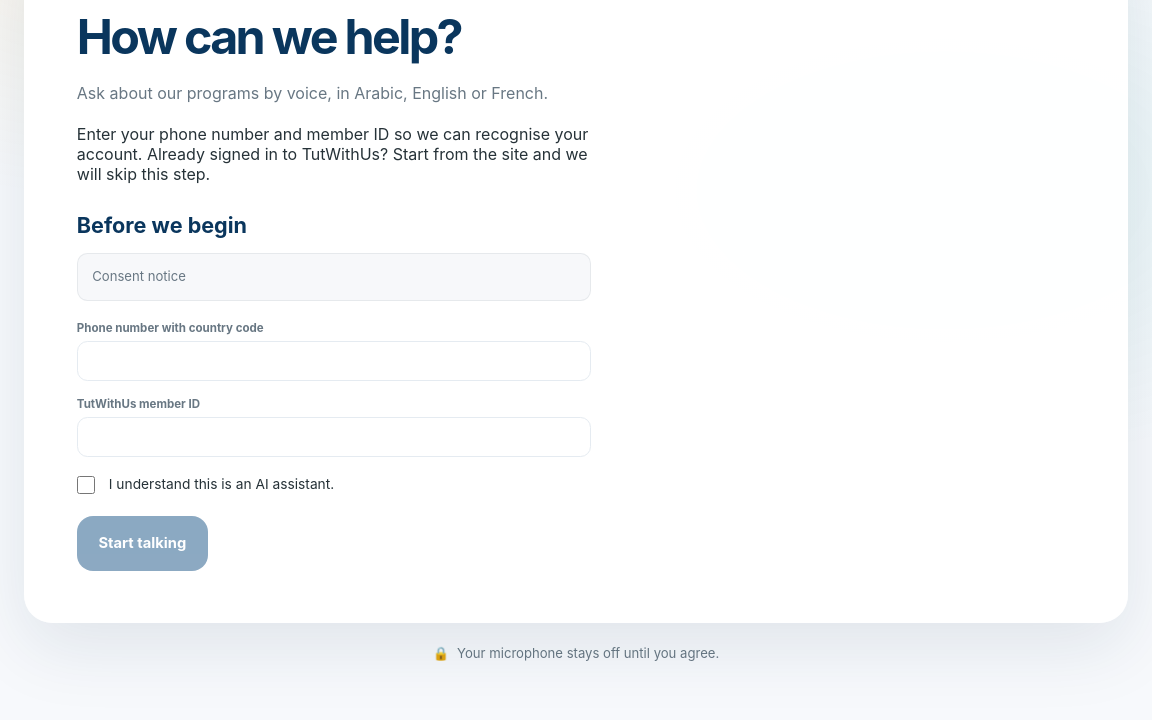
Scenario: voice page call flow › does not request the microphone before consent and the explicit Start action
(page scrolled)
expect the text "Consent notice" is shown: met, box [92,268,186,284]
Click the checkbox labelled "I understand this is an AI assistant.".
click(86, 485)  # box [77,476,95,494]
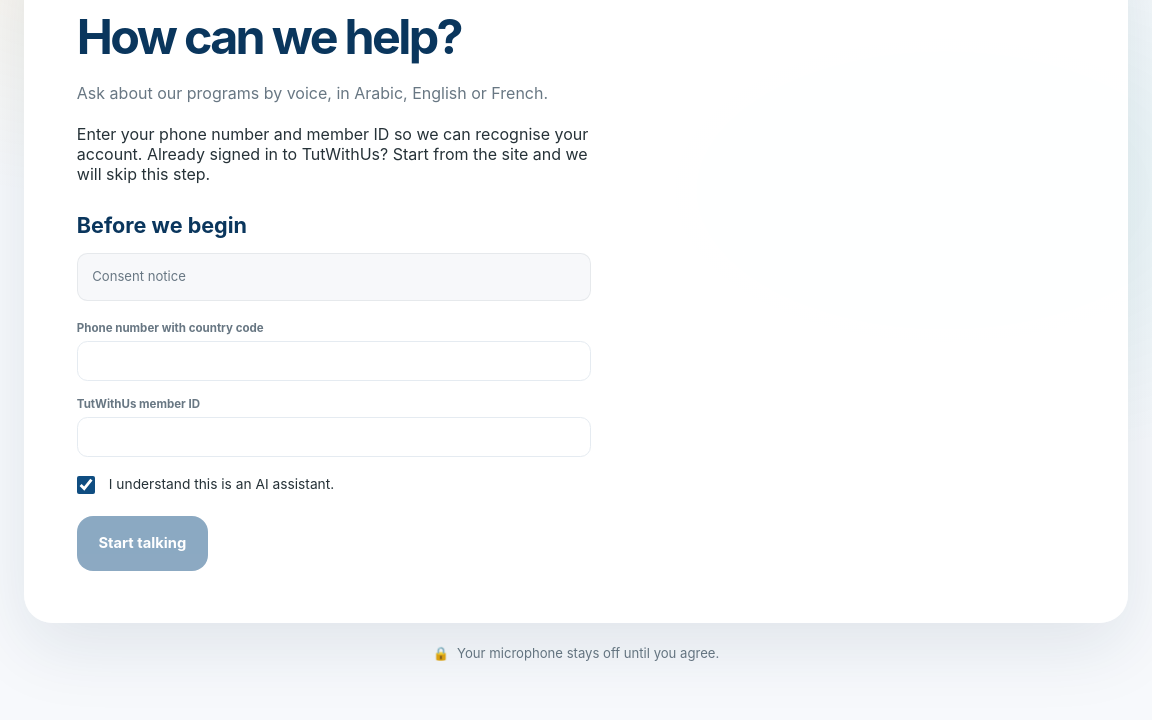
Type "+966501234567" into the field labelled "Phone number with country code".
click(334, 361); type("+966501234567")  # box [77,341,591,381]
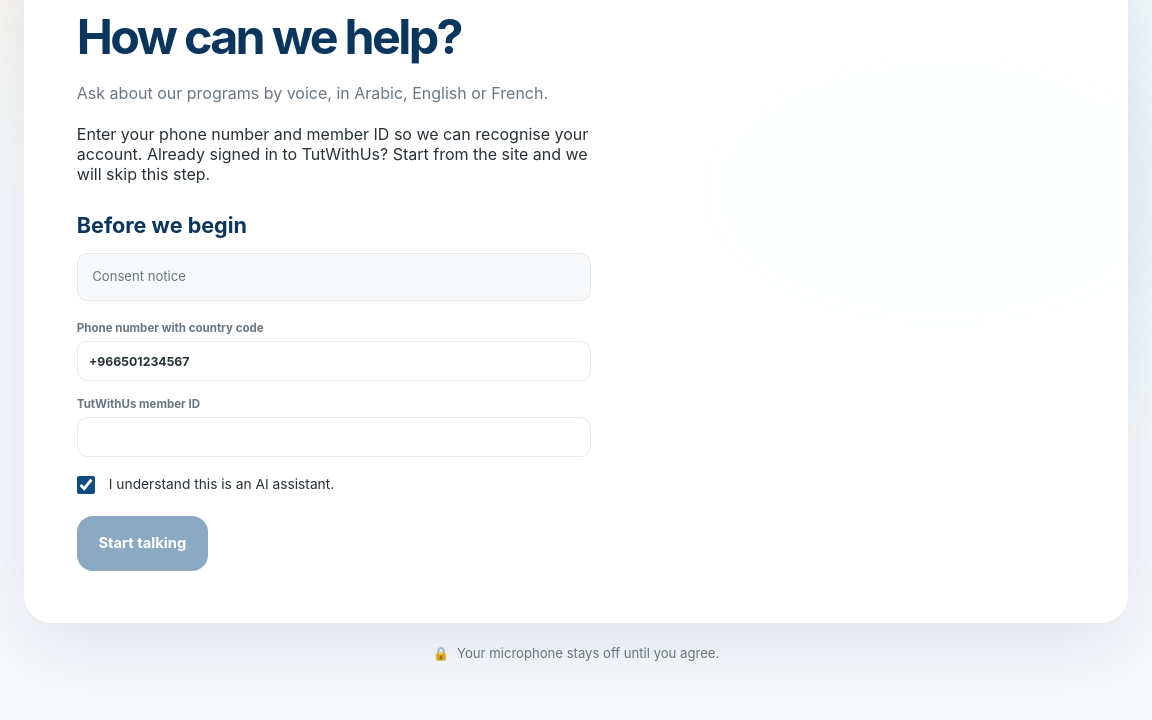
Type "2610037" into the field labelled "TutWithUs member ID".
click(334, 438); type("2610037")  # box [77,418,591,458]
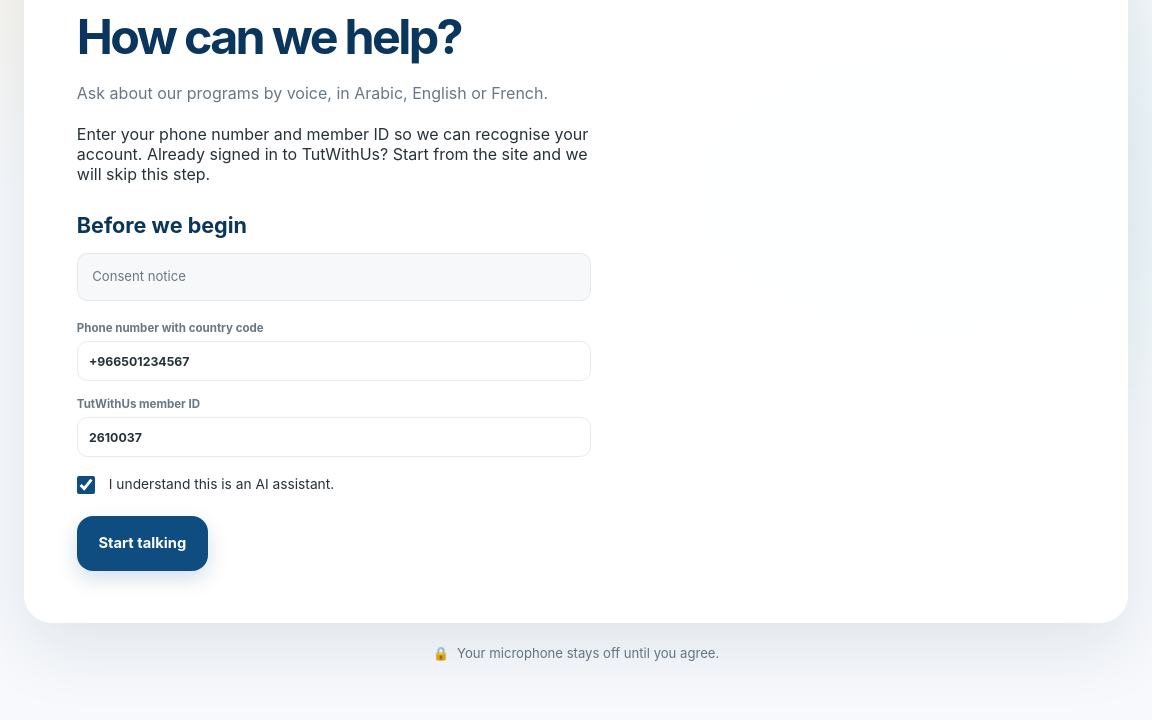
Click the button "Start talking".
click(142, 543)  # box [77,516,208,571]
(page scrolled)
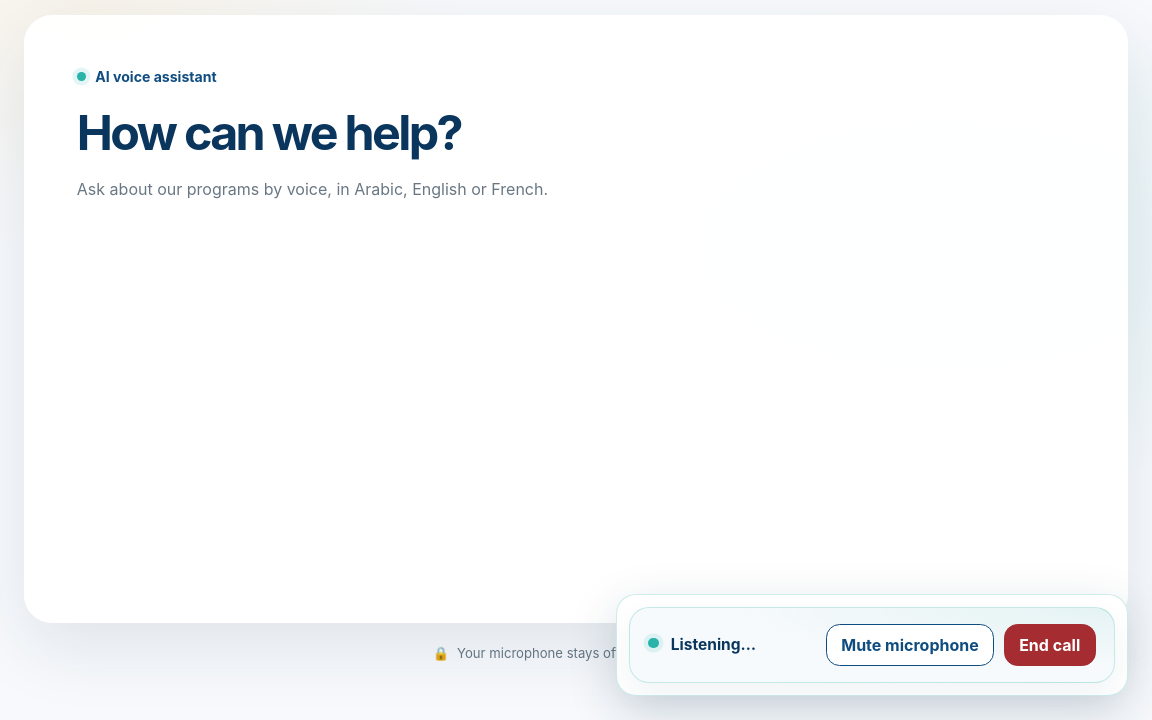
expect the text "Listening…" is shown: met, box [671,632,756,658]
expect the dialog is shown: met, box [616,594,1128,696]
expect the button with class "ap-voice-call__button--end" is shown: met, box [1004,624,1096,666]
